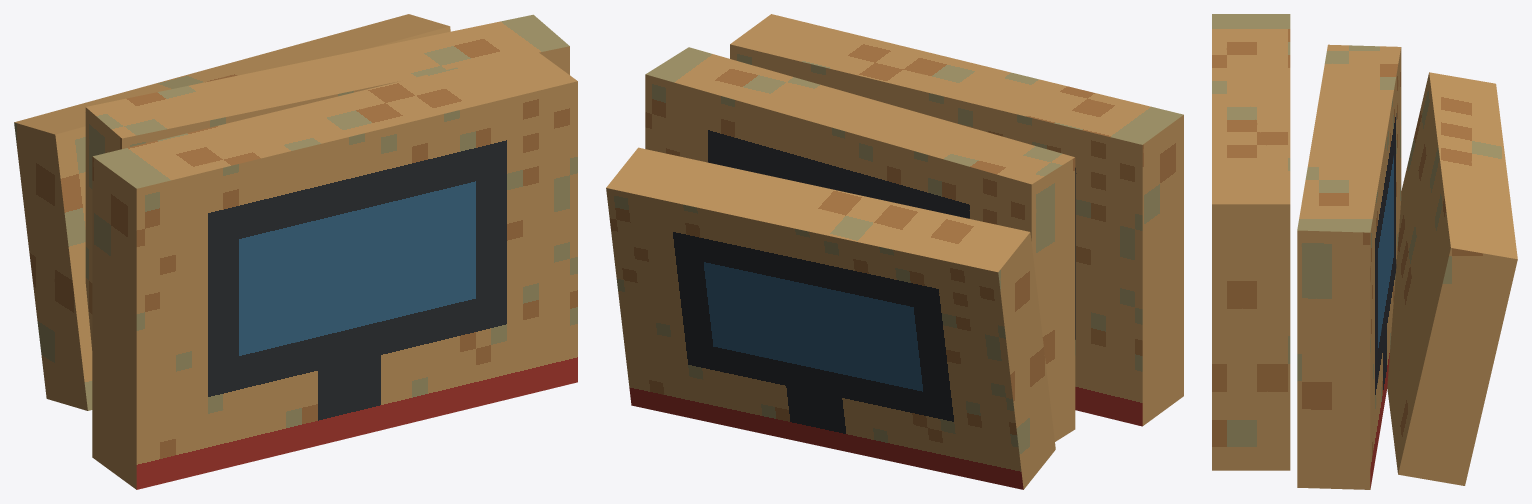
The model's file is stock_tv.glb.
3 views of the same model, side by side, from view 1: azimuth 30°, elevation 25°; view 2: azimuth 150°, elevation 25°; view 3: azimuth 270°, elevation 25° (orthographic). The views are drawn at different scales.
Visible parts, largest first — view 1: stock_tv; view 2: stock_tv; view 3: stock_tv.
Part boxes in pixels (x1,y1,x2,y2): stock_tv: [14, 14, 577, 489]; stock_tv: [606, 14, 1183, 489]; stock_tv: [1212, 14, 1517, 489].
Bounding box in the file's own units: 1.01 × 0.6289 × 0.6246.
2 materials, 2 textured.
